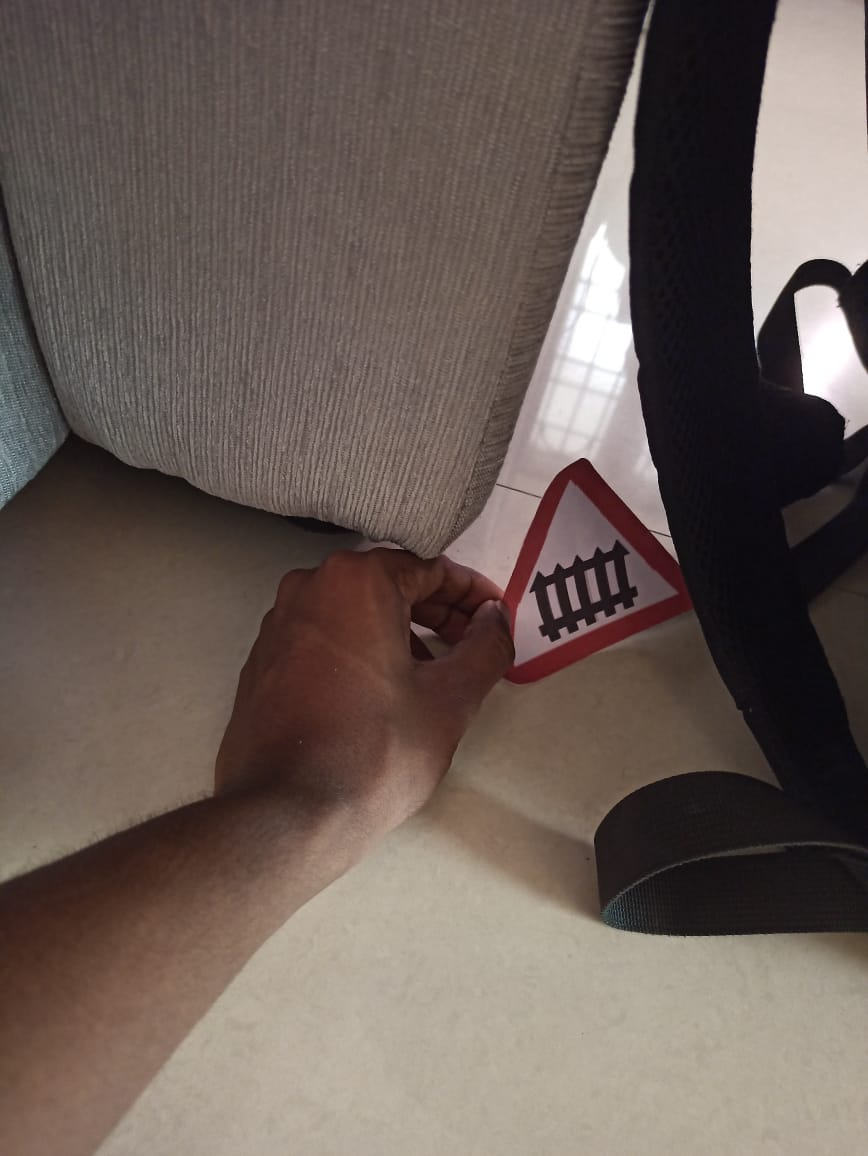GUARDED LEVEL CROSSING: (472, 420, 727, 684)
